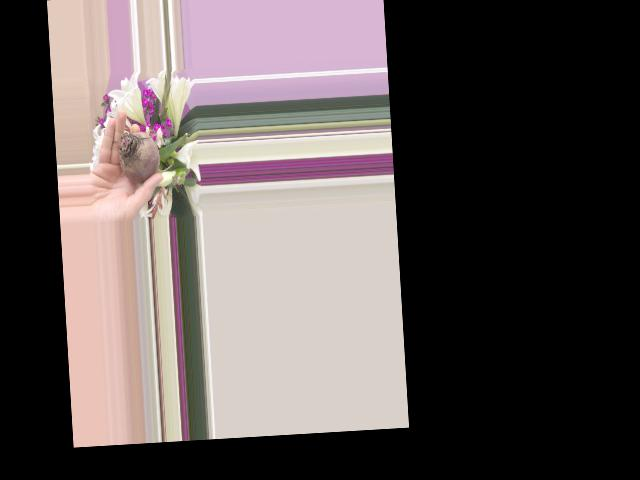beet: (117, 129, 173, 184)
